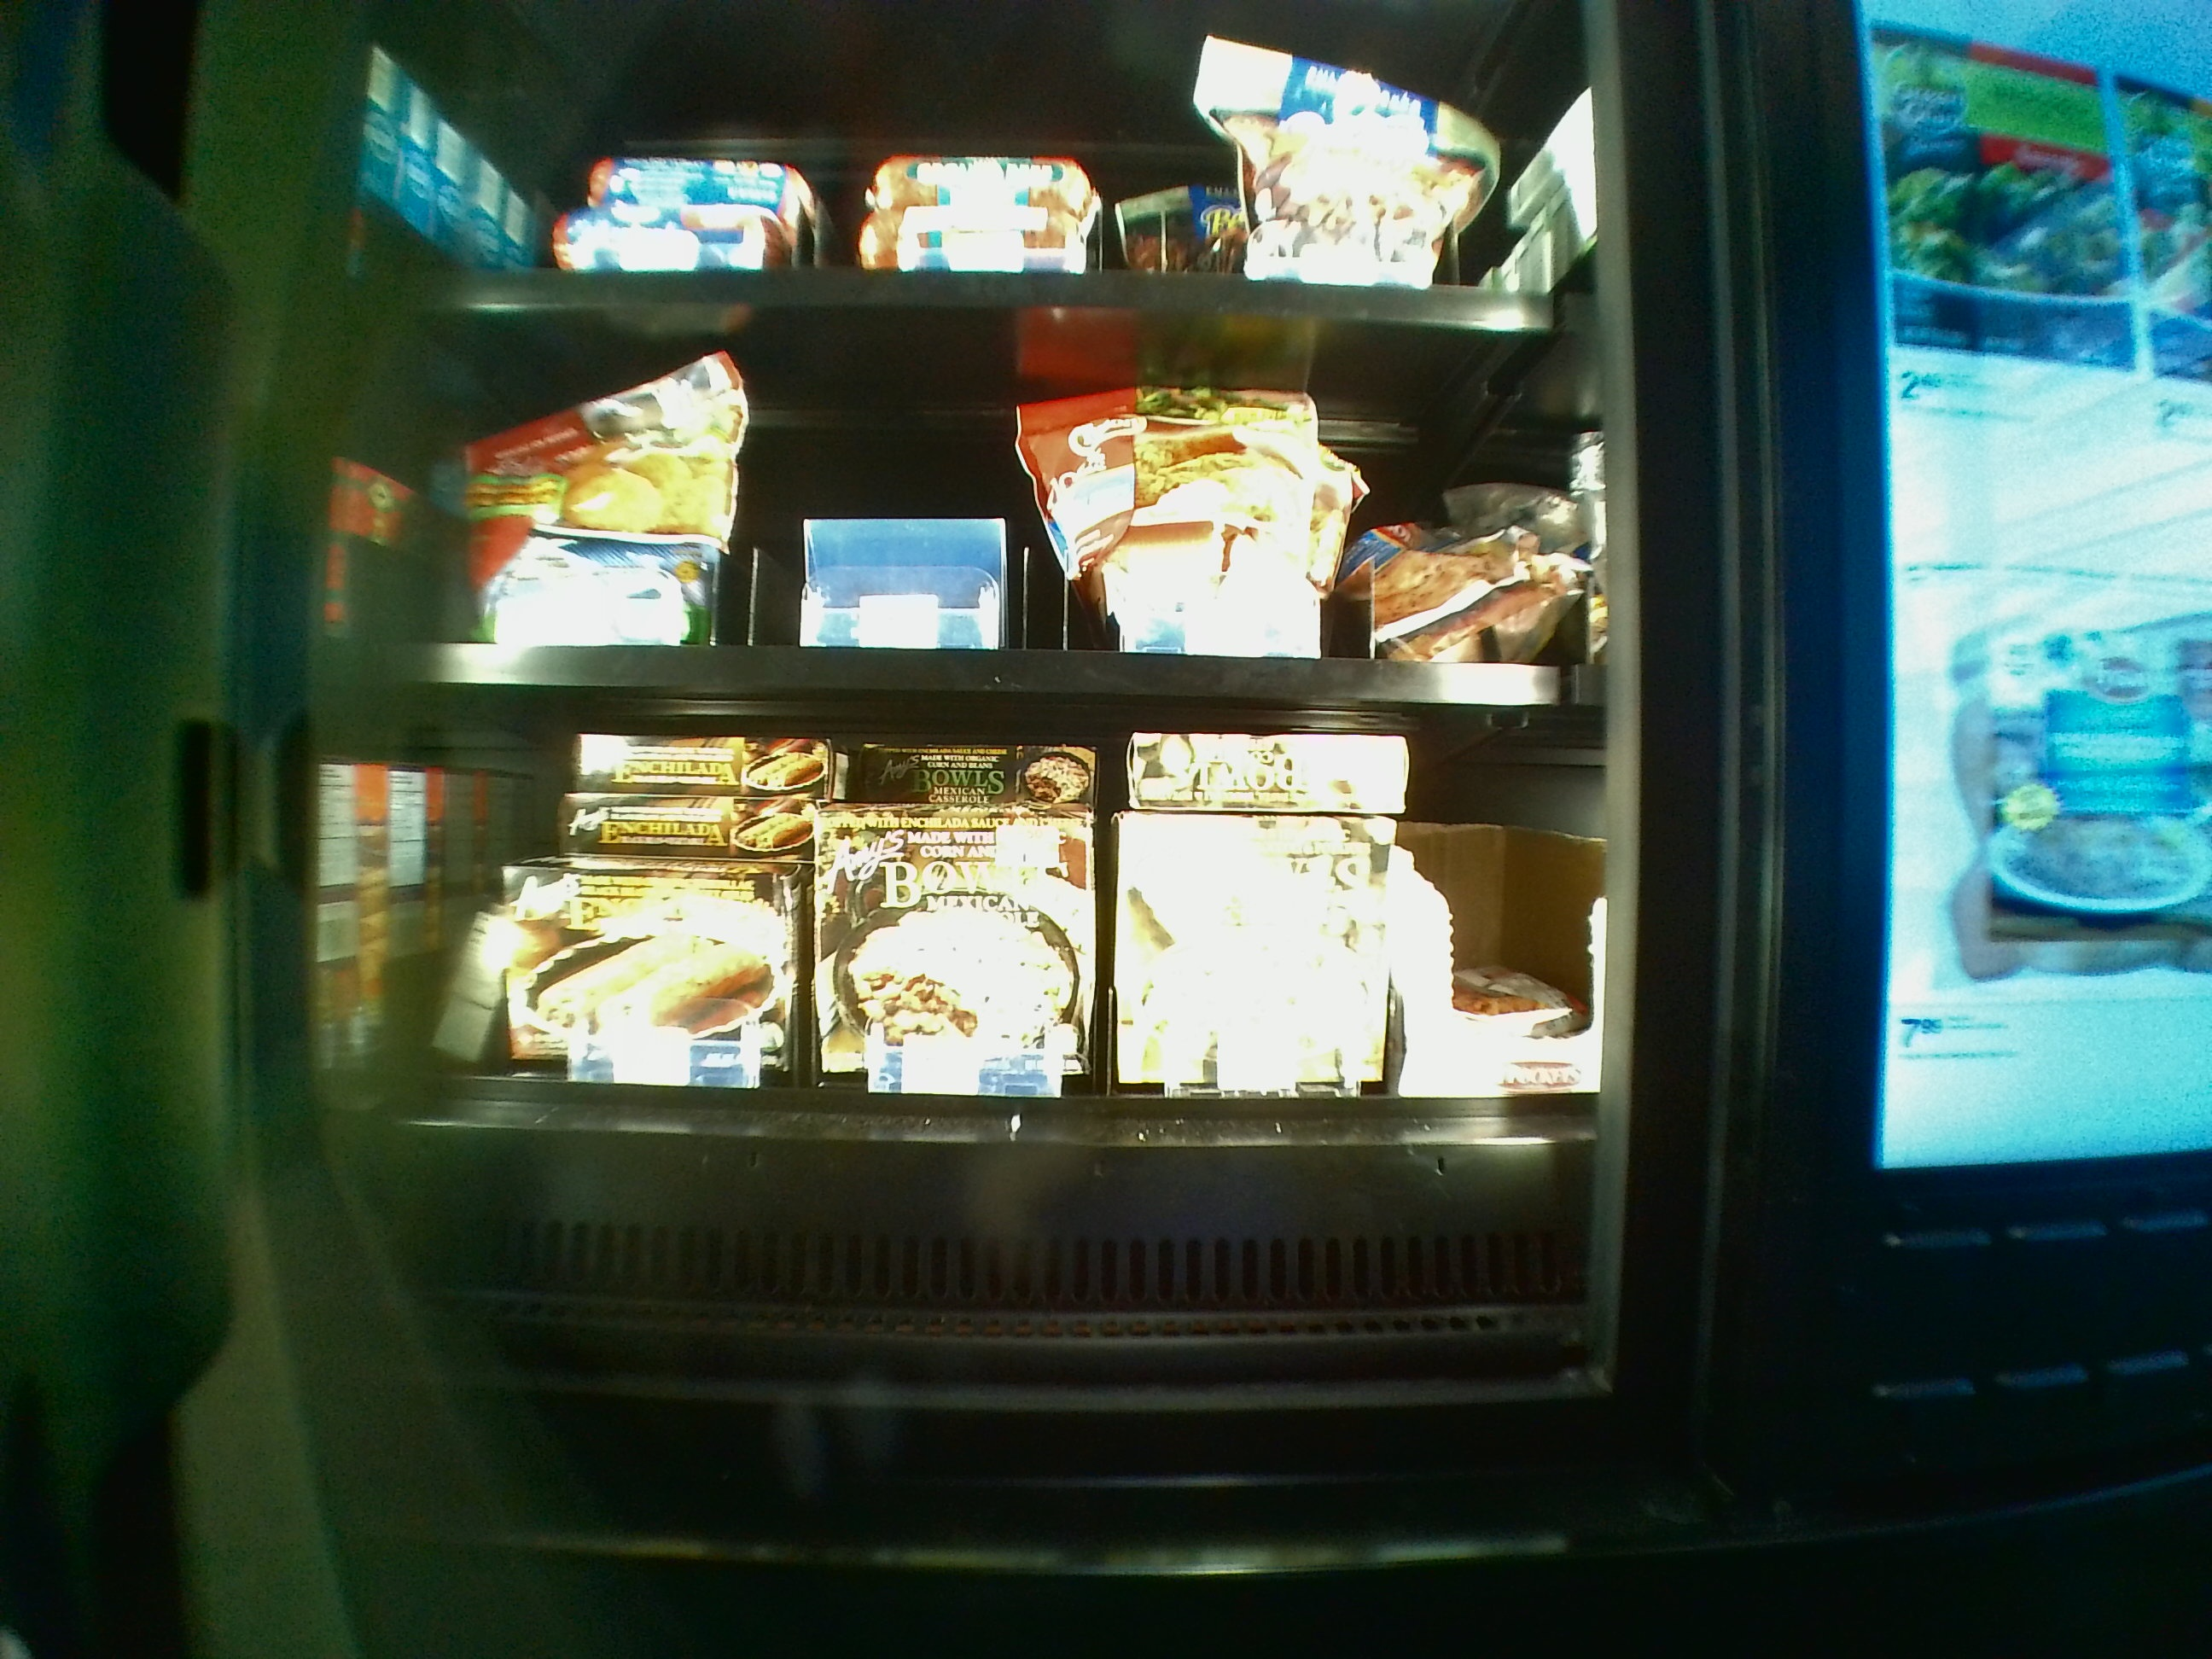shelf: (343, 718, 1599, 1361), (354, 312, 1595, 706)
